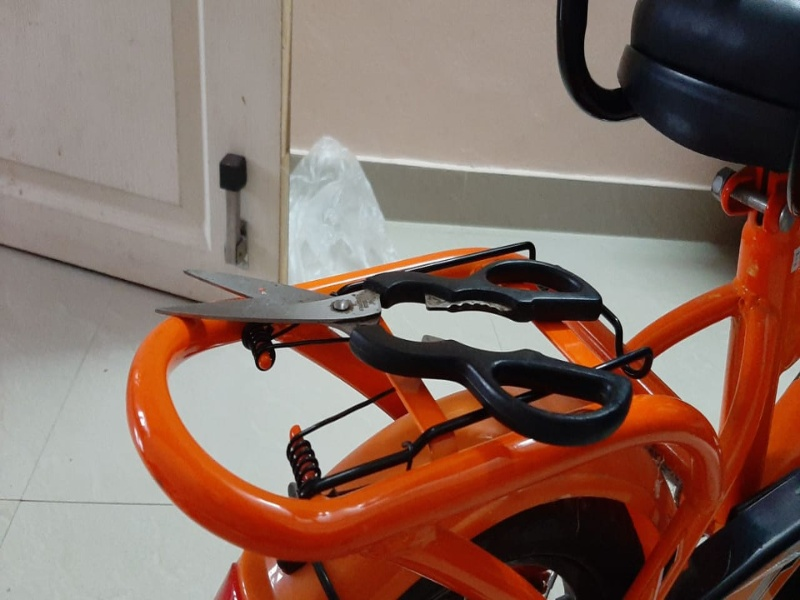scissor: (148, 255, 637, 447)
